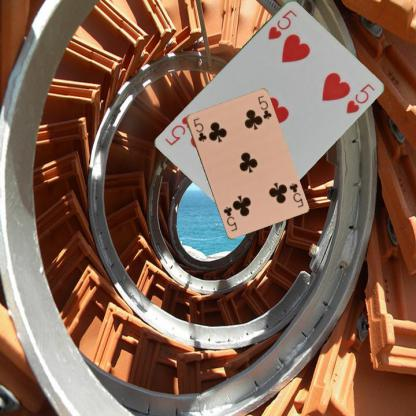5c: (286, 180, 304, 209), (191, 115, 208, 143)
5h: (265, 6, 299, 41)
